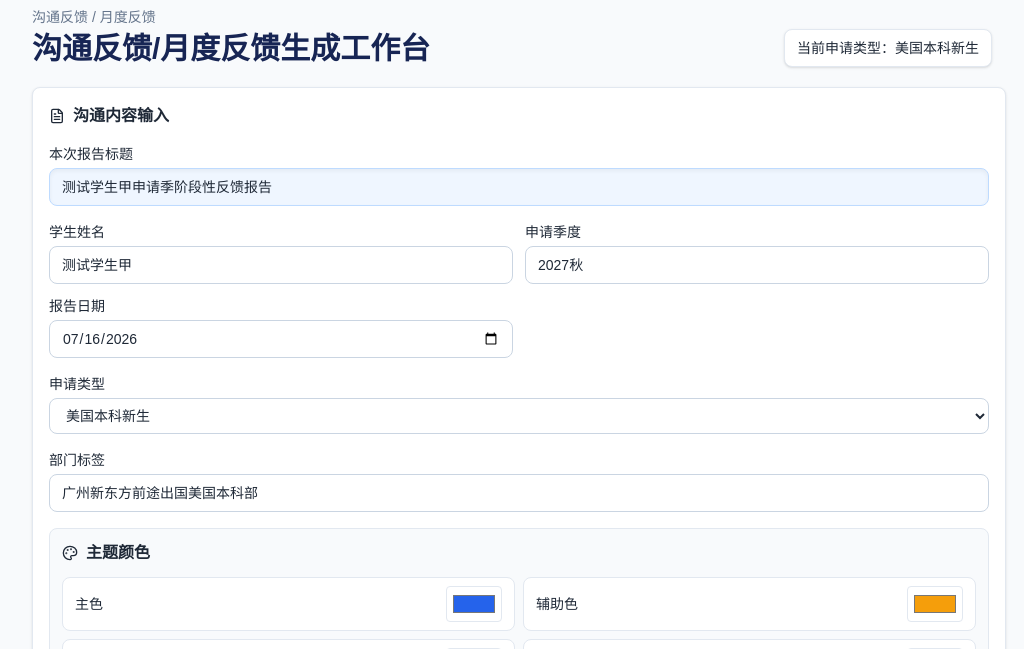
monthly reports page › defaults the report date to today and allows editing report date and section titles
Type "2026-08-09" into the date field labelled "报告日期" at x=281, y=339, box [49,320,513,358]
(page scrolled)
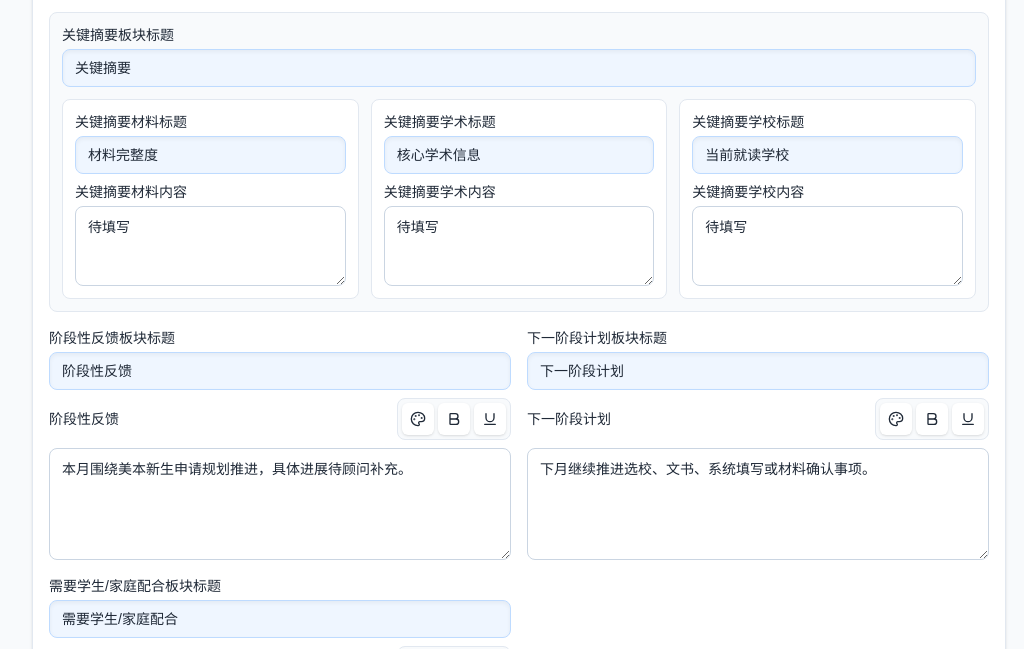
Replace the text in the field labelled "阶段性反馈板块标题" with "本次顾问反馈" at x=280, y=371, box [49,352,511,390]
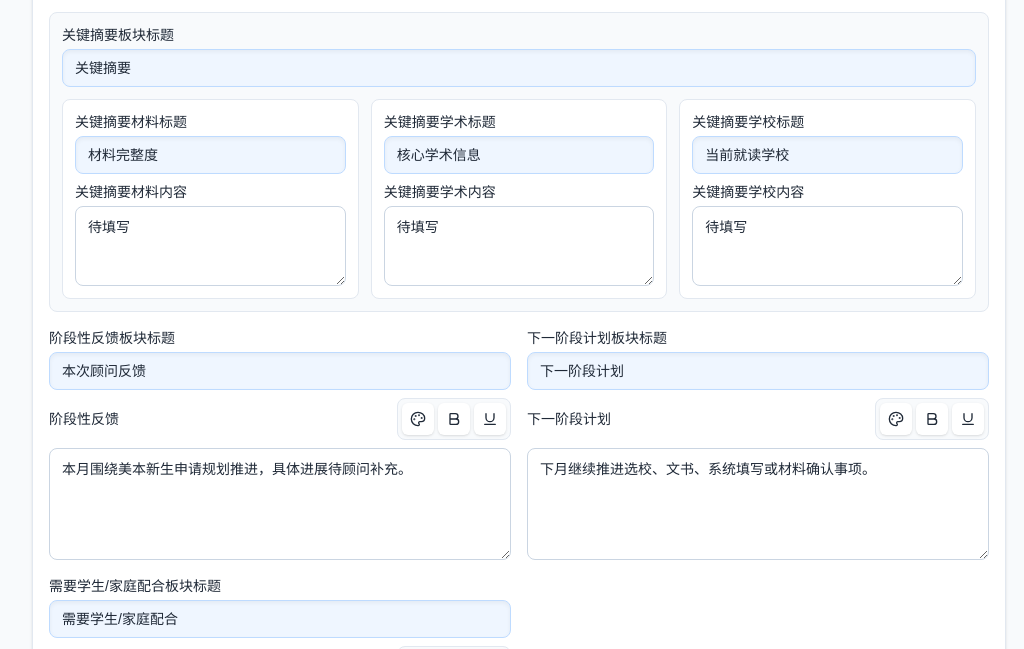
Replace the text in the field labelled "下一阶段计划板块标题" with "后续推进计划" at x=758, y=371, box [527,352,989,390]
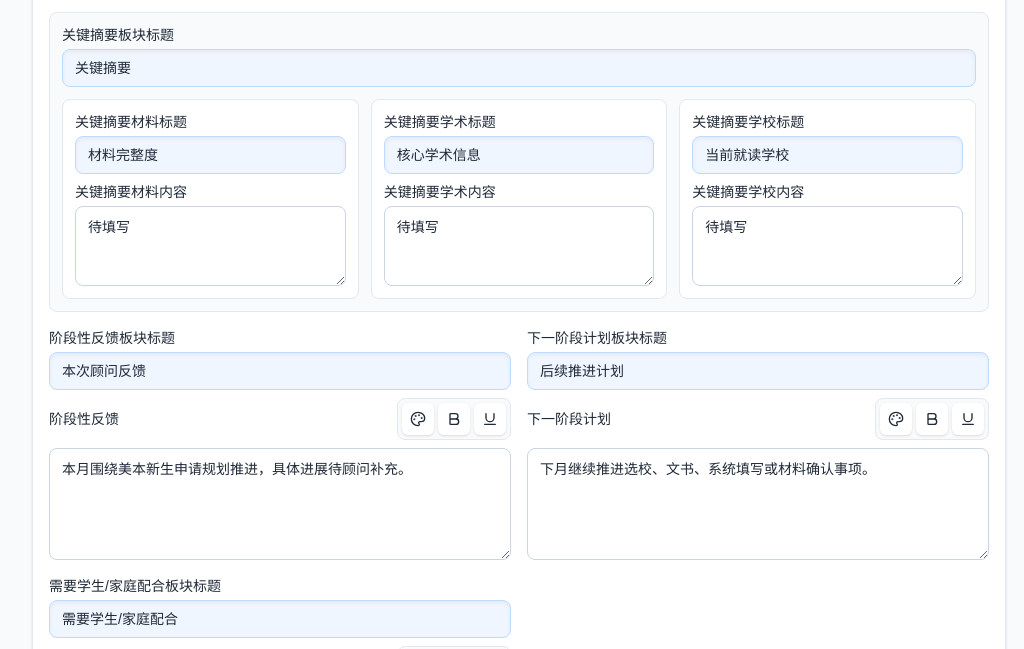
Replace the text in the field labelled "需要学生/家庭配合板块标题" with "家庭配合事项" at x=280, y=619, box [49,600,511,638]
(page scrolled)
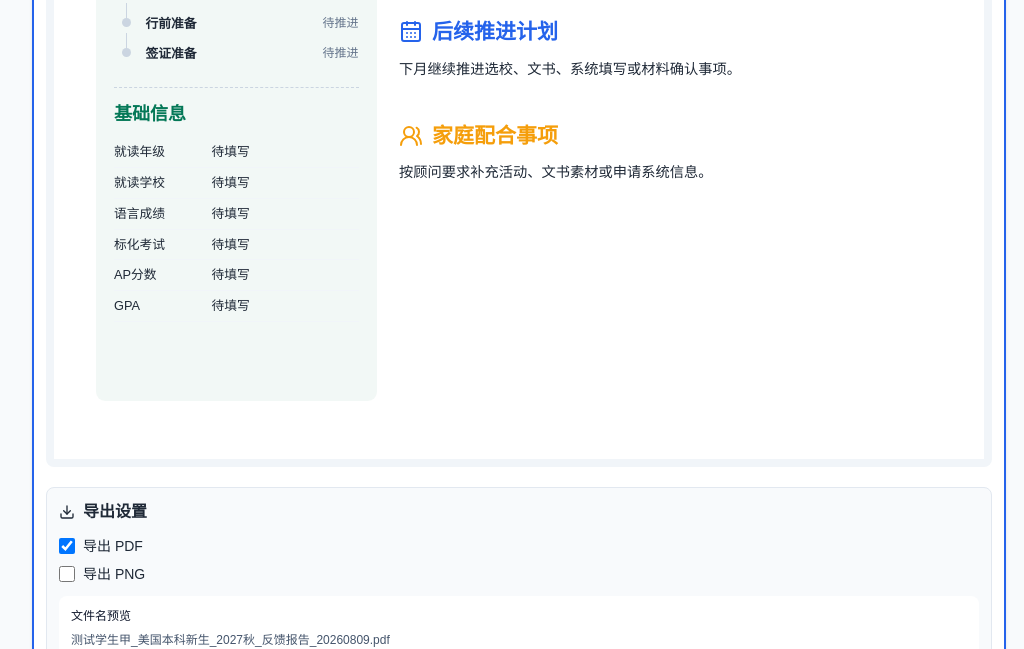
Expected: the element with test id "monthly-report-preview" shows "后续推进计划", [432,20,558,43]
Expected: the text "测试学生甲_美国本科新生_2027秋_反馈报告_20260809.pdf" is shown, [71,632,390,646]
Expected: the element with test id "monthly-report-preview" shows "家庭配合事项", [432,124,558,147]
